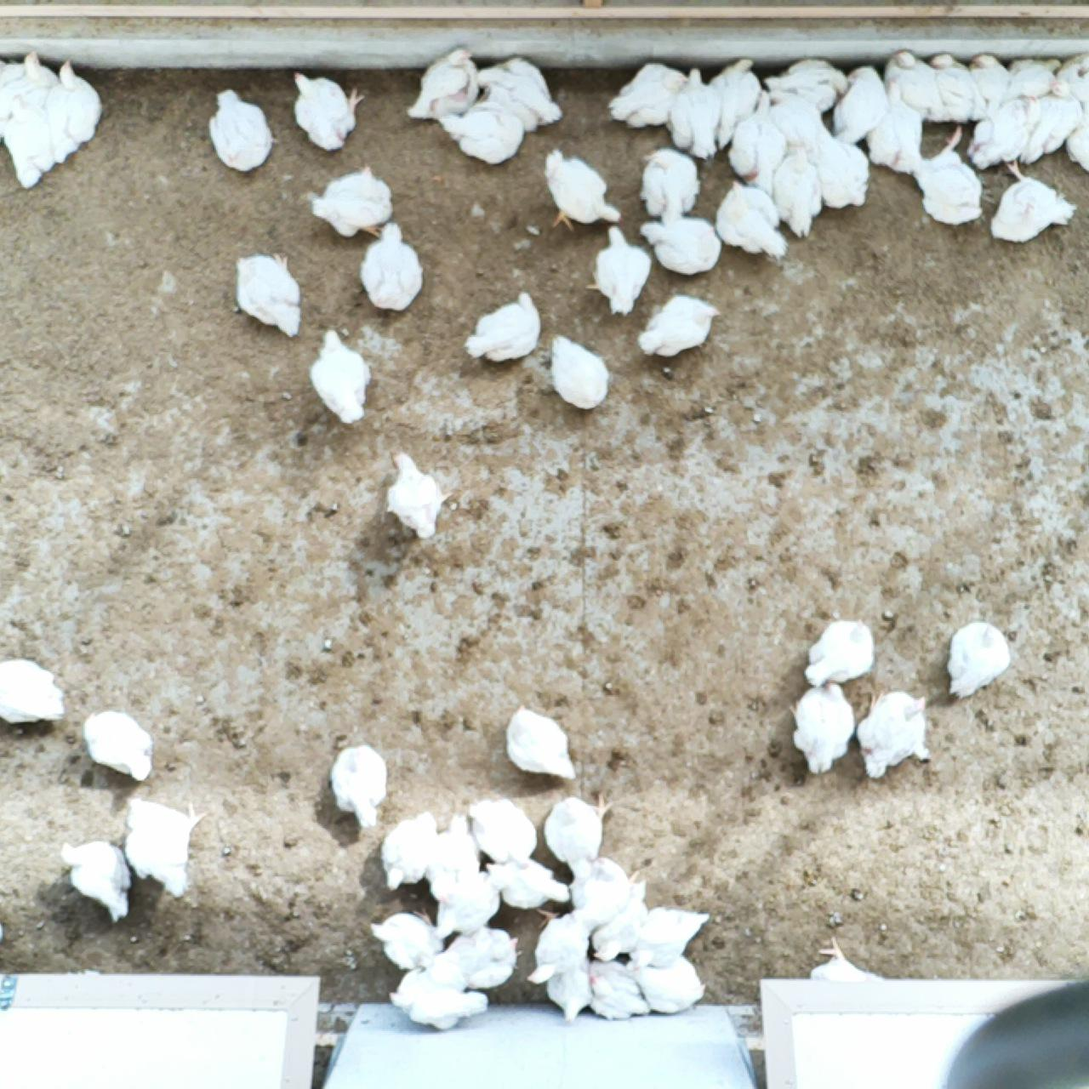chicken: (121, 790, 209, 903), (986, 154, 1079, 248), (855, 684, 931, 785), (541, 144, 625, 235), (911, 125, 985, 228), (382, 963, 492, 1032), (287, 66, 369, 158), (205, 85, 281, 179), (786, 677, 856, 779), (428, 923, 528, 992), (502, 699, 582, 785), (356, 218, 429, 312), (381, 448, 457, 538), (307, 327, 374, 429), (583, 225, 654, 321), (44, 56, 106, 165), (728, 86, 787, 200), (308, 163, 396, 239), (57, 835, 131, 924), (403, 43, 483, 124), (714, 177, 791, 261), (460, 288, 544, 365), (475, 55, 567, 125), (82, 708, 161, 786), (541, 788, 614, 872), (524, 903, 596, 988), (235, 254, 306, 340), (802, 614, 879, 693), (943, 616, 1012, 704), (462, 791, 542, 866), (327, 741, 390, 836), (438, 98, 526, 166), (865, 75, 925, 174), (588, 877, 656, 964), (630, 905, 714, 975), (664, 64, 724, 162), (637, 292, 721, 361), (606, 60, 690, 127), (804, 131, 873, 212), (639, 210, 724, 275), (771, 140, 827, 238), (1021, 80, 1083, 167), (367, 902, 445, 971), (380, 805, 440, 894), (828, 62, 889, 148), (4, 92, 58, 189), (479, 855, 572, 911), (708, 53, 760, 153), (549, 330, 613, 411), (631, 953, 710, 1018), (762, 56, 848, 114), (0, 656, 69, 728), (977, 92, 1043, 167), (427, 810, 483, 897), (637, 143, 703, 216), (583, 955, 649, 1025), (765, 87, 833, 153), (881, 48, 943, 119), (576, 858, 640, 924), (929, 50, 985, 122), (808, 930, 882, 984), (540, 964, 597, 1028), (0, 50, 54, 112), (968, 50, 1011, 118), (1008, 57, 1064, 101), (1057, 51, 1089, 103), (1065, 117, 1089, 174)
